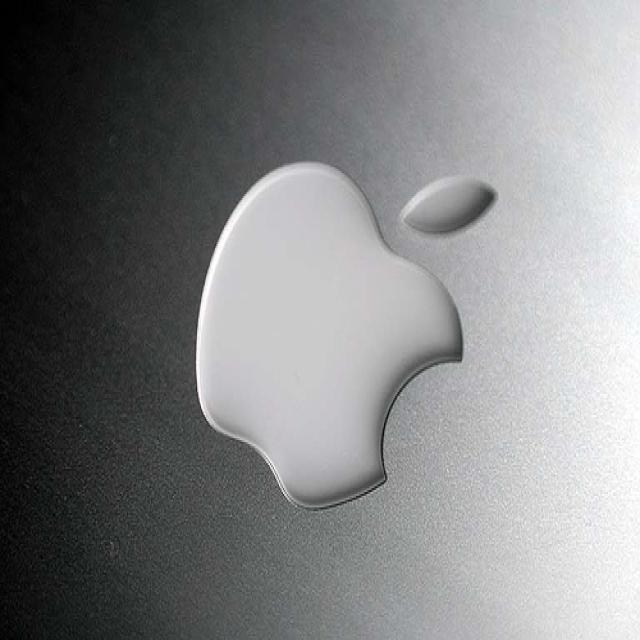apple: (191, 147, 509, 520)
